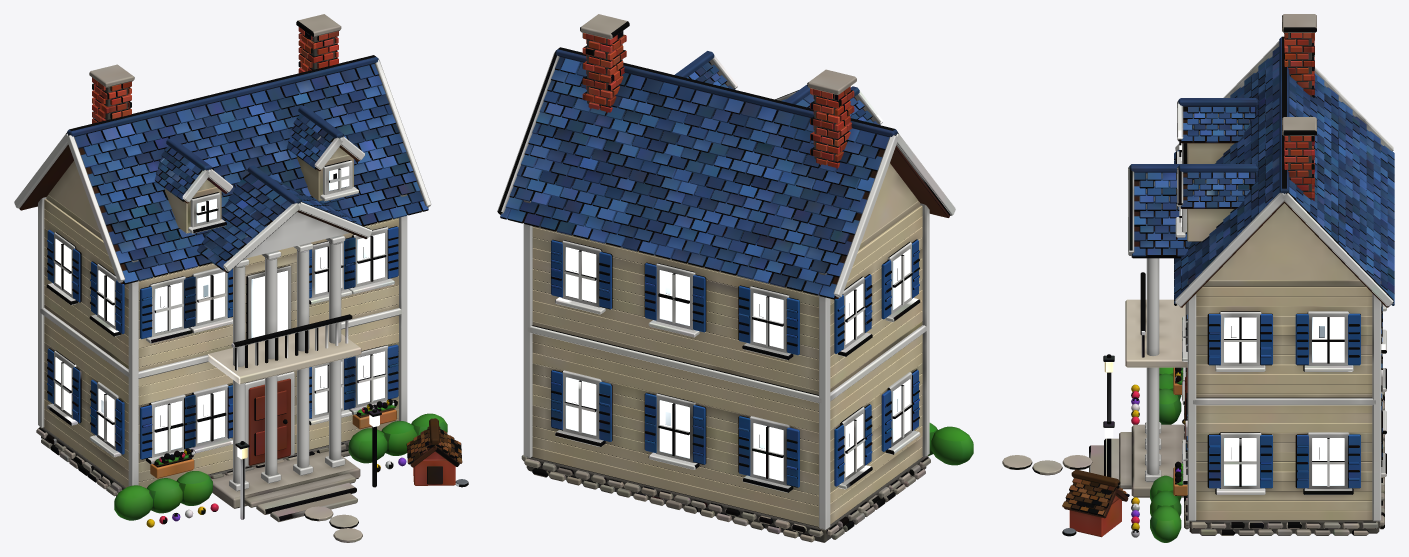
File: manor.glb
3 views of the same model, side by side, from view 1: azimuth 30°, elevation 25°; view 2: azimuth 150°, elevation 25°; view 3: azimuth 270°, elevation 25° (orthographic). The views are drawn at different scales.
Parts seen in each view (by area): view 1: manor; view 2: manor; view 3: manor.
Part boxes in pixels (x1,y1,x2,y2): manor: [14, 14, 468, 542]; manor: [497, 14, 973, 542]; manor: [1002, 14, 1394, 542].
Size of the model in its own units: 3.09 by 3.5 by 3.12.
1 material, 1 textured.
